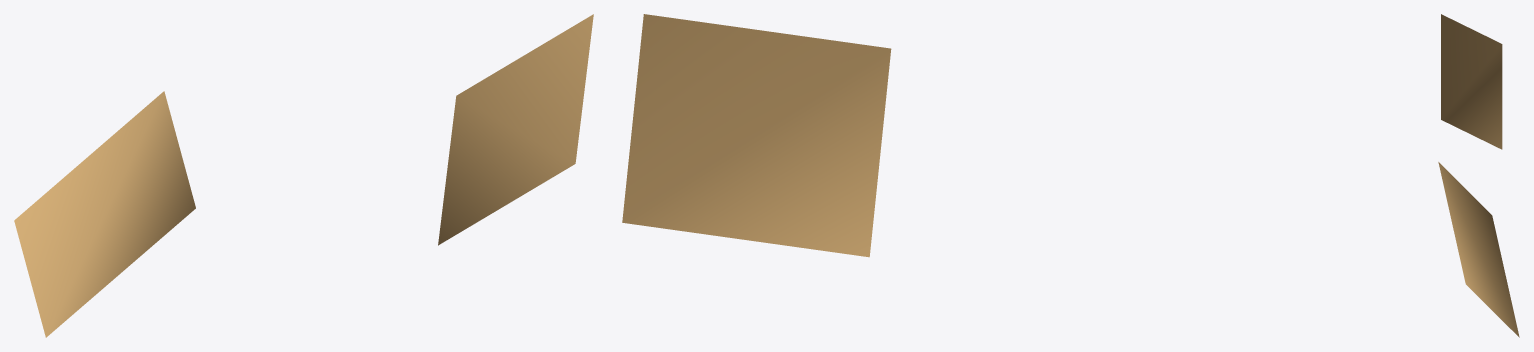
File: node-local-attributes.gltf
3 views of the same model, side by side, from view 1: azimuth 30°, elevation 25°; view 2: azimuth 150°, elevation 25°; view 3: azimuth 270°, elevation 25° (orthographic). The views are drawn at different scales.
Visible parts, largest first — view 1: tight-child, negative-child; view 2: negative-child; view 3: tight-child, negative-child.
Part boxes in pixels (<box>): tight-child: <box>14,91,195,337</box>; negative-child: <box>438,14,593,245</box>; negative-child: <box>622,14,891,257</box>; tight-child: <box>1441,14,1502,149</box>; negative-child: <box>1438,162,1519,337</box>.
Bounding box in the file's own units: 4.16 × 1.28 × 0.6363.
